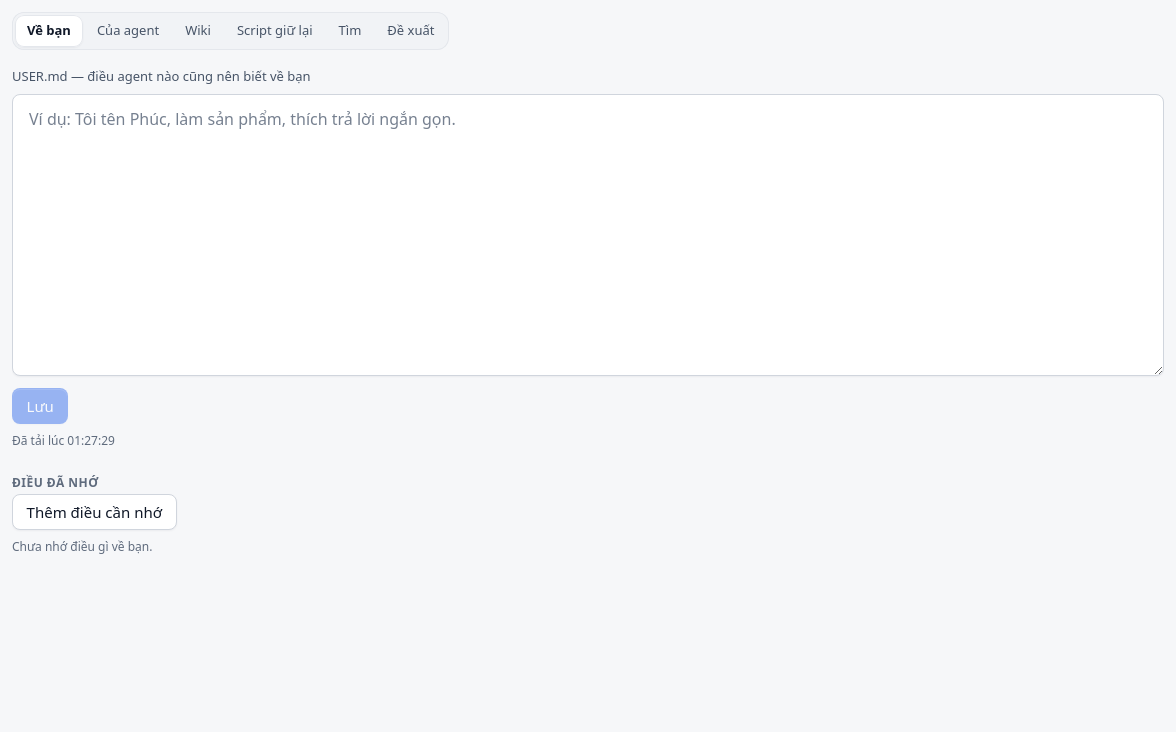
Scenario: MemoryPanel › switching agent asks the server for that agent's memory
Click the tab "Của agent" at (128, 31), box [85, 15, 171, 47]
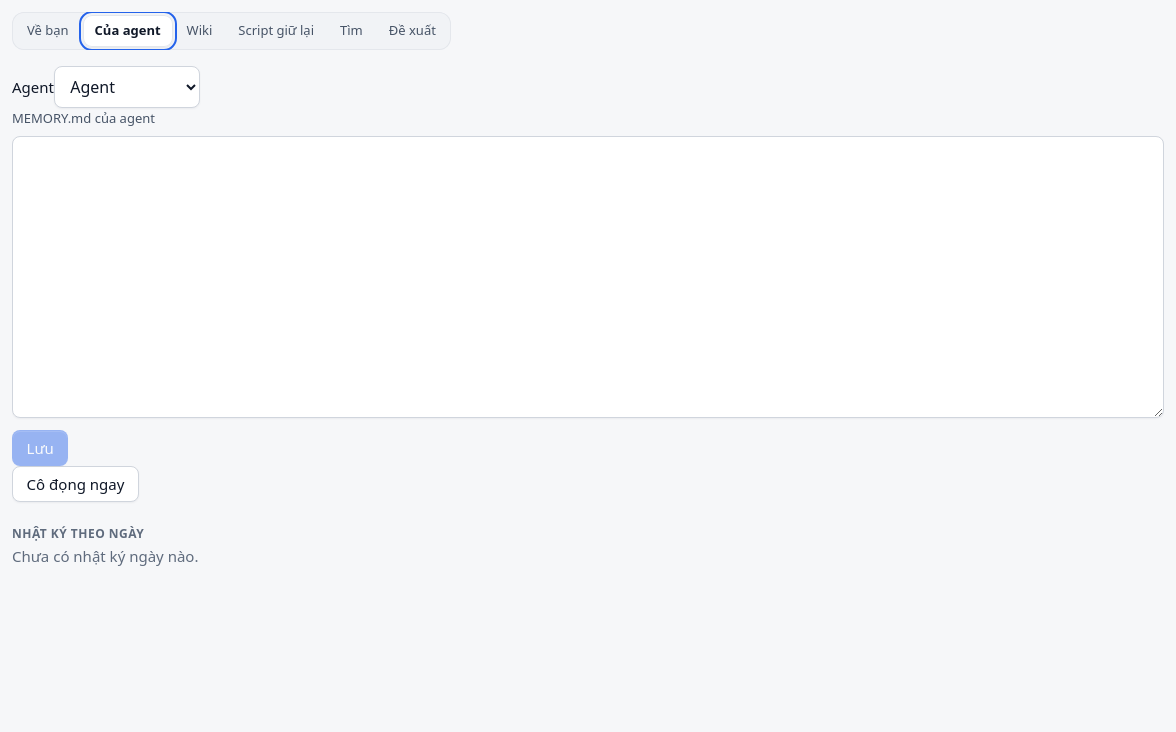
Expected: the text box labelled "MEMORY.md của agent" is shown, [12, 136, 1164, 418]
Select "HLV sức khoẻ" in the dropdown at (127, 87), box [54, 66, 200, 108]
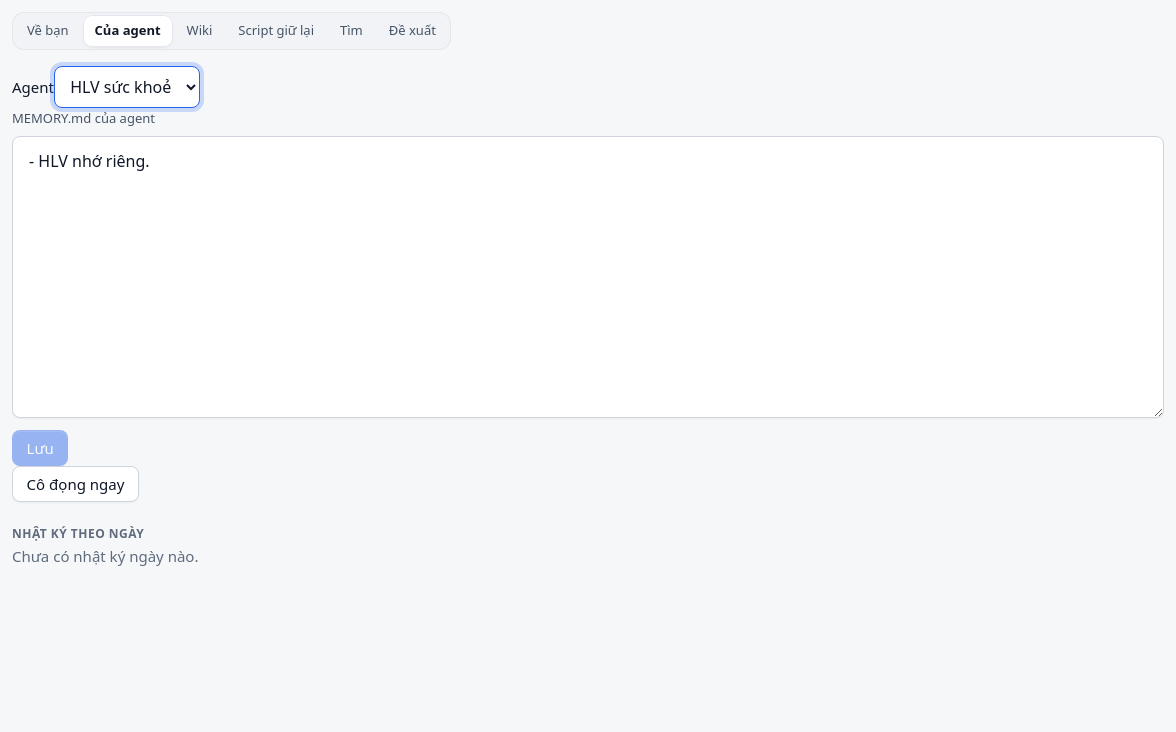
Now the text box labelled "MEMORY.md của agent" holds "- HLV nhớ riêng.", box [12, 136, 1164, 418]
